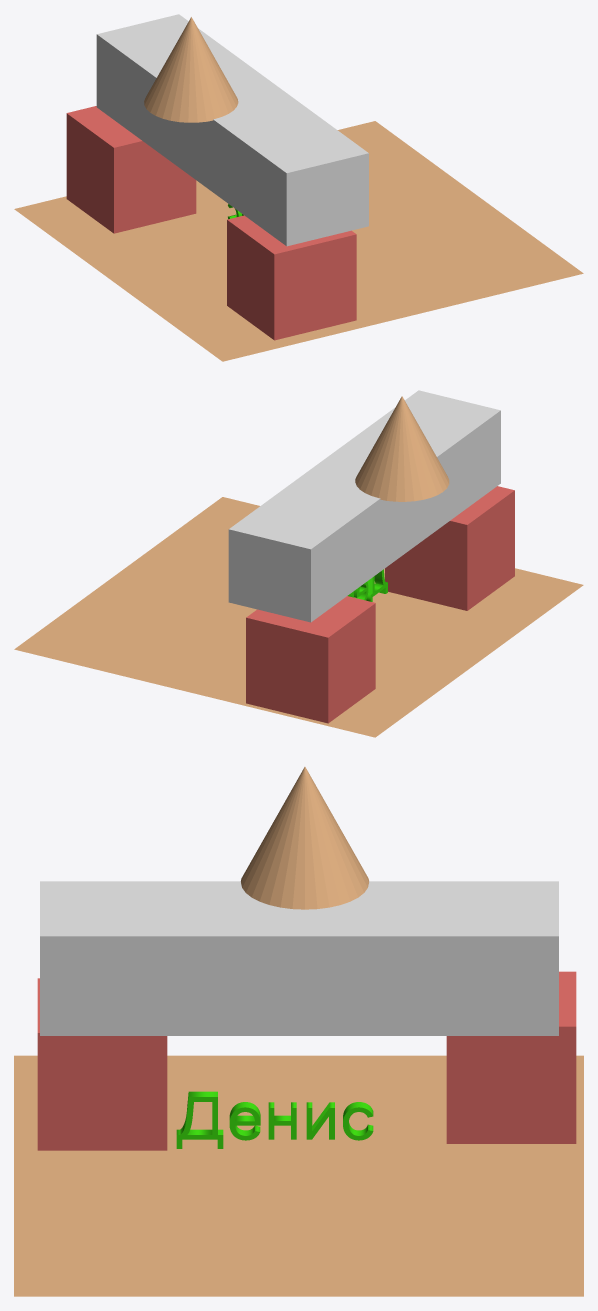
3 renders of one model, top to bottom at view 1: azimuth 30°, elevation 25°; view 2: azimuth 150°, elevation 25°; view 3: azimuth 270°, elevation 25°, orthographic. The views are drawn at different scales.
Parts seen in each view (by area): view 1: Плоскость, Куб.002, Куб, Куб.001, Конус; view 2: Плоскость, Куб.002, Куб.001, Куб, Конус, Имя; view 3: Плоскость, Куб.002, Куб.001, Куб, Конус, Имя.
Boxes of the visible parts, x1=… form: Плоскость: x1=14, y1=121, x2=583, y2=361; Куб.002: x1=96, y1=14, x2=368, y2=246; Куб: x1=227, y1=215, x2=356, y2=340; Куб.001: x1=66, y1=106, x2=196, y2=233; Конус: x1=144, y1=17, x2=238, y2=122; Плоскость: x1=14, y1=497, x2=583, y2=737; Куб.002: x1=228, y1=390, x2=500, y2=622; Куб.001: x1=246, y1=596, x2=375, y2=723; Куб: x1=385, y1=486, x2=514, y2=610; Конус: x1=355, y1=396, x2=449, y2=501; Имя: x1=347, y1=569, x2=387, y2=601; Плоскость: x1=14, y1=1055, x2=583, y2=1296; Куб.002: x1=40, y1=881, x2=558, y2=1035; Куб.001: x1=446, y1=971, x2=576, y2=1143; Куб: x1=37, y1=978, x2=167, y2=1150; Конус: x1=241, y1=767, x2=368, y2=909; Имя: x1=176, y1=1091, x2=373, y2=1148.
Size of the model in its own units: 8.79 by 5.79 by 8.79.
